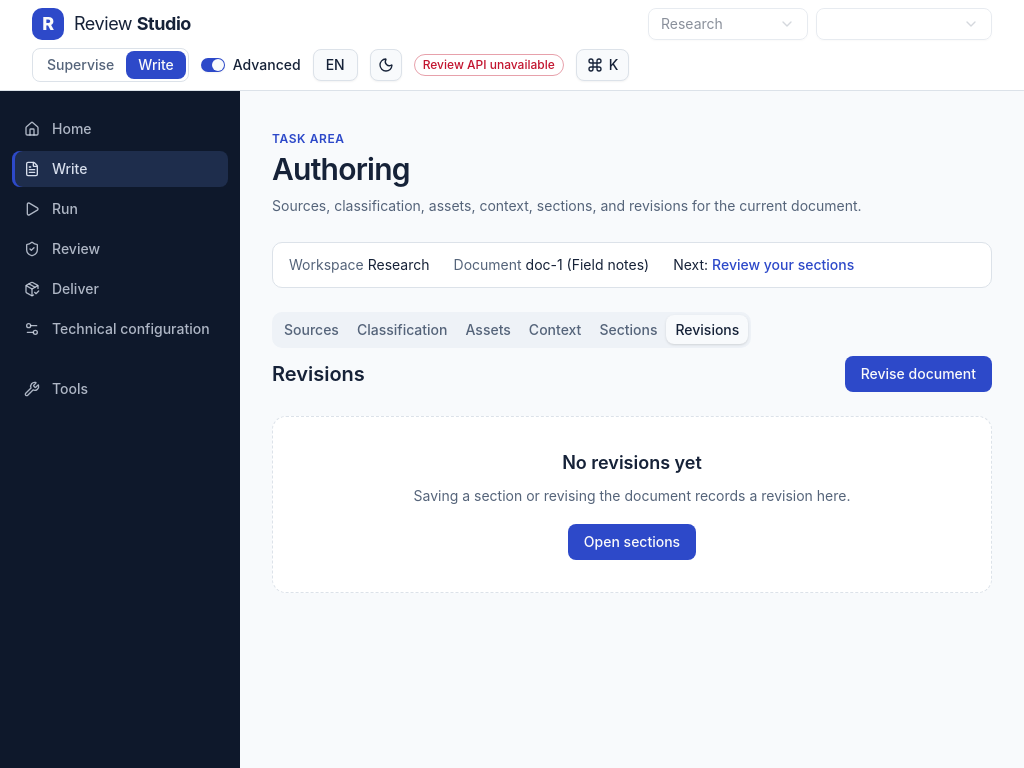
it: revisions › revises a target and shows the produced diff summary
Click the button "Revise document" at (918, 374), box [845, 356, 992, 392]
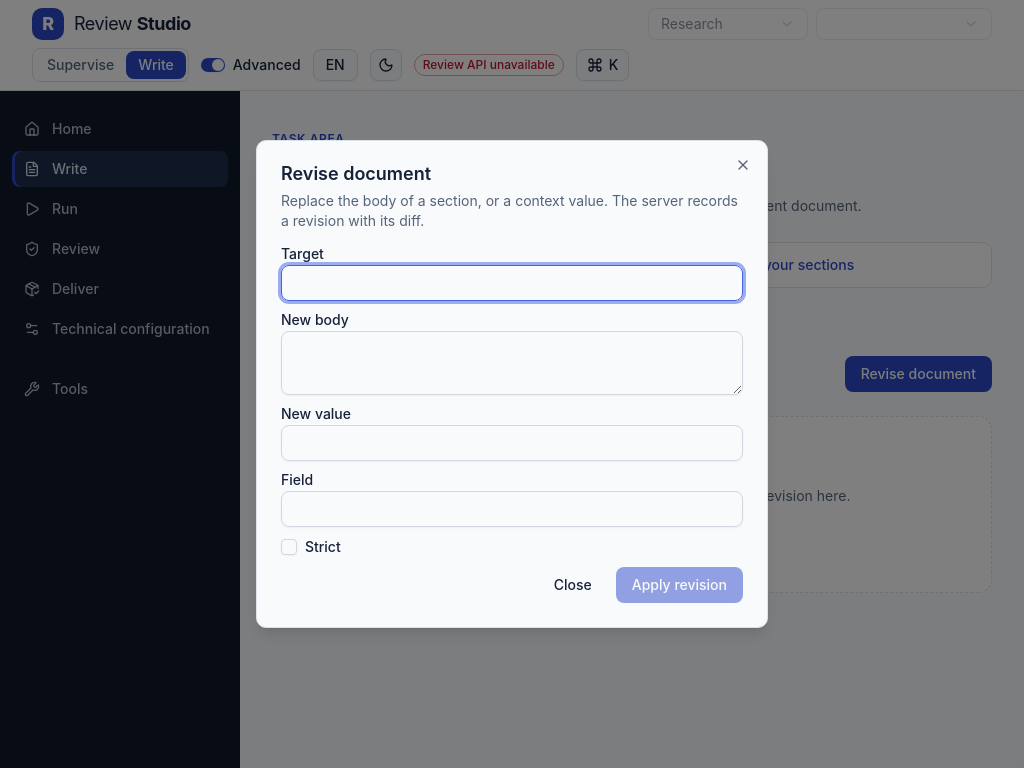
Type "intro" into the field labelled "Target" at (512, 283), box [281, 265, 743, 301]
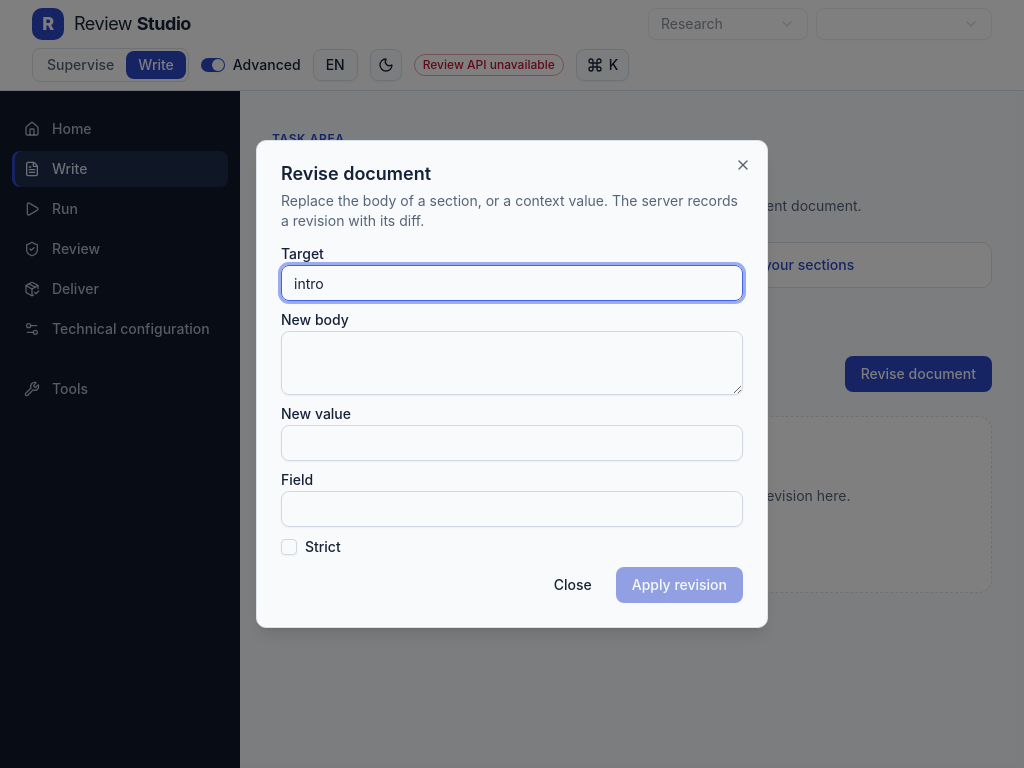
Type "new text" into the text box labelled "New body" at (512, 363), box [281, 331, 743, 395]
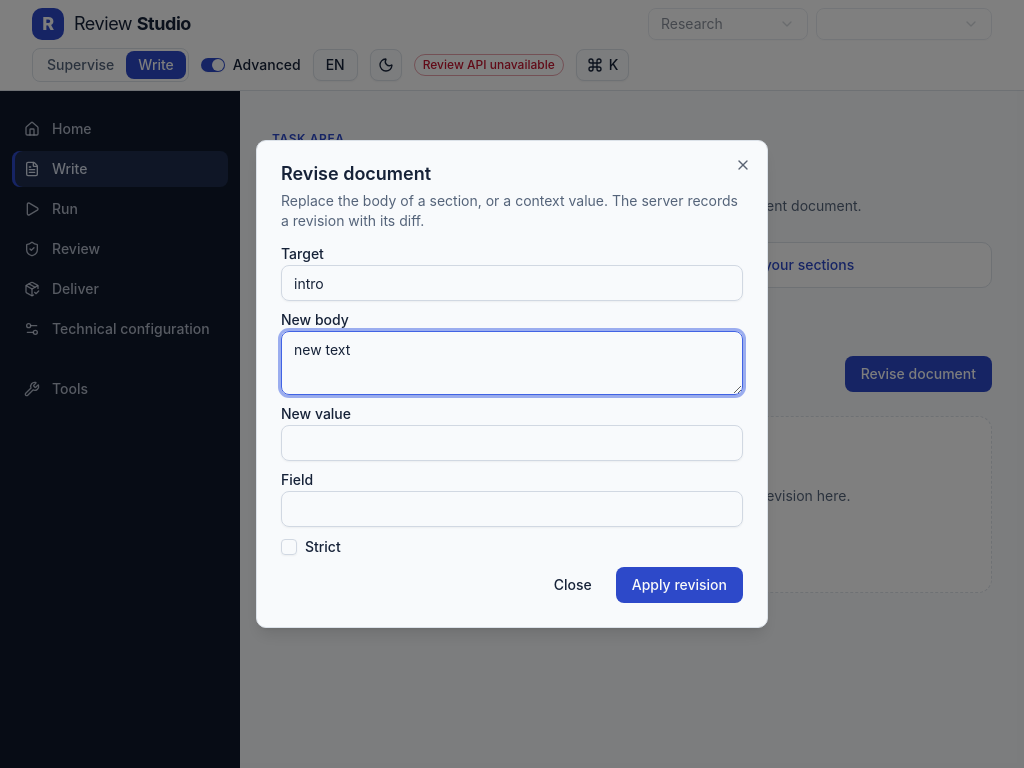
Click the button "Apply revision" at (679, 585), box [616, 567, 743, 603]
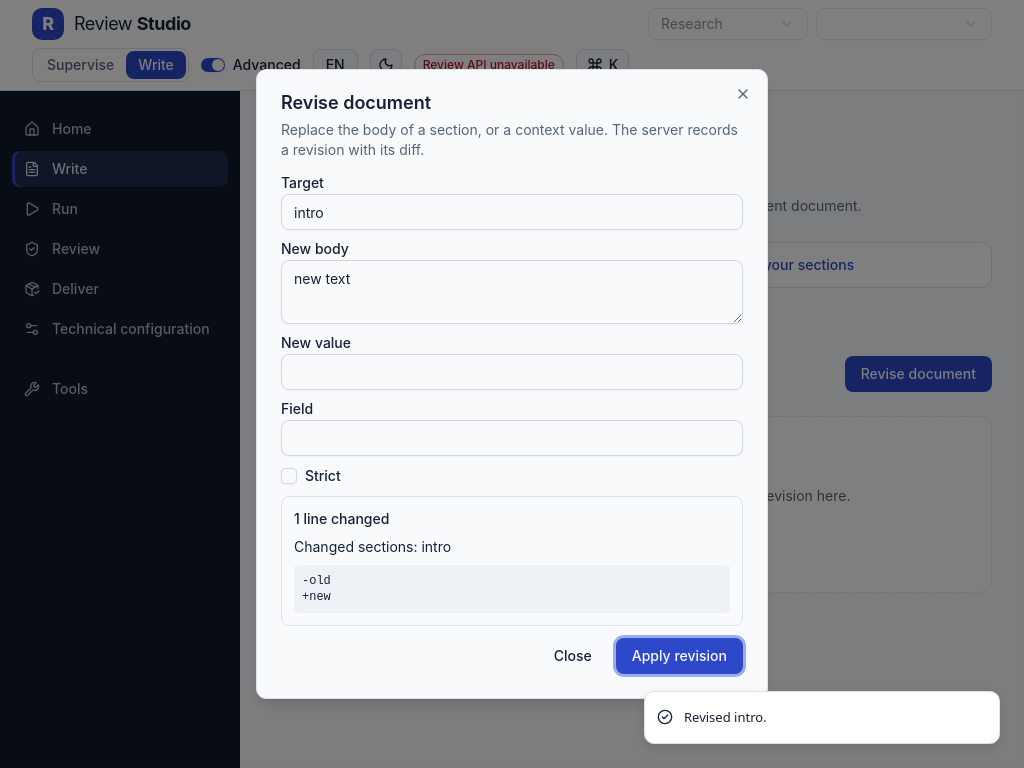
Now the text "1 line changed" is shown, box [294, 510, 389, 527]
